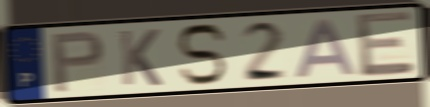2: (236, 20, 289, 84)
A: (292, 17, 360, 80)
E: (353, 8, 418, 80)
K: (117, 27, 165, 88)
P: (49, 29, 108, 95)
S: (174, 21, 229, 87)
